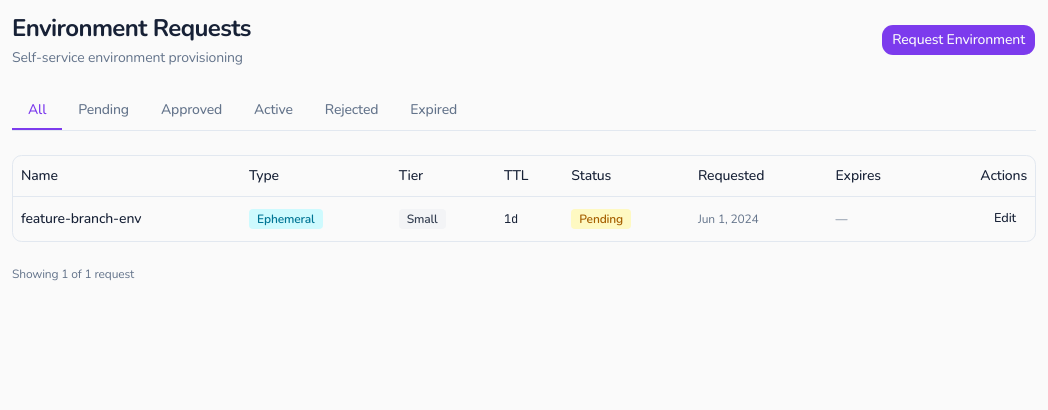
Test case: EnvRequestsClient › shows filtered empty state message when status filter yields no results
Expected: the text "feature-branch-env" is shown, [13,196,241,240]
Click the button "Rejected".
click(352, 111)  # box [309,92,394,130]
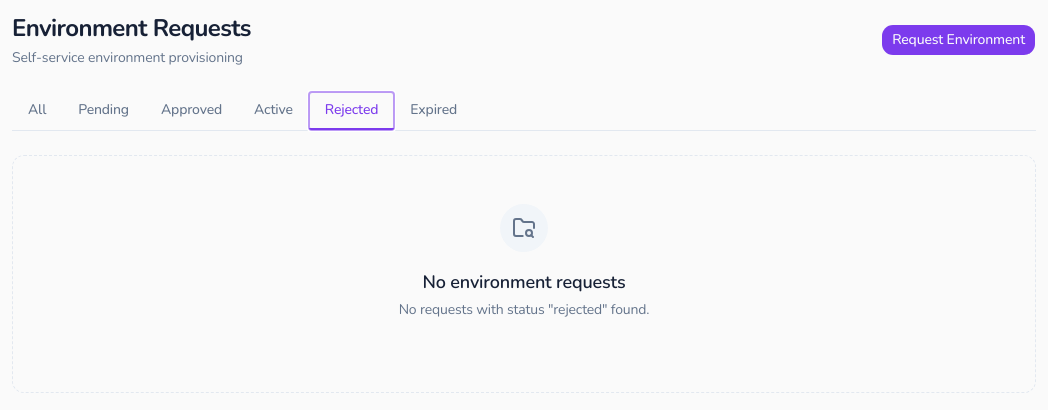
Result: the heading "No environment requests" is shown at [422,268,626,296]
Result: the text "No requests with status \"rejected\" found." is shown at [399,300,649,320]
